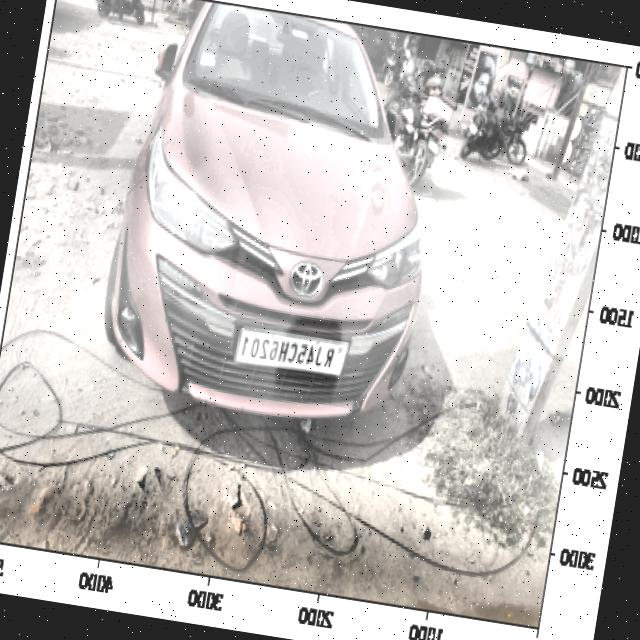license_plate: (232, 324, 341, 384)
